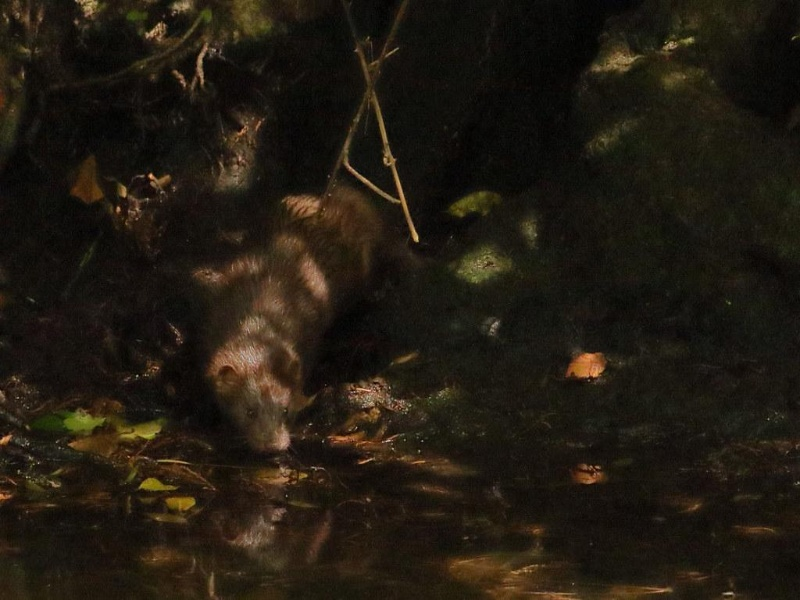minkish: (199, 182, 386, 449)
